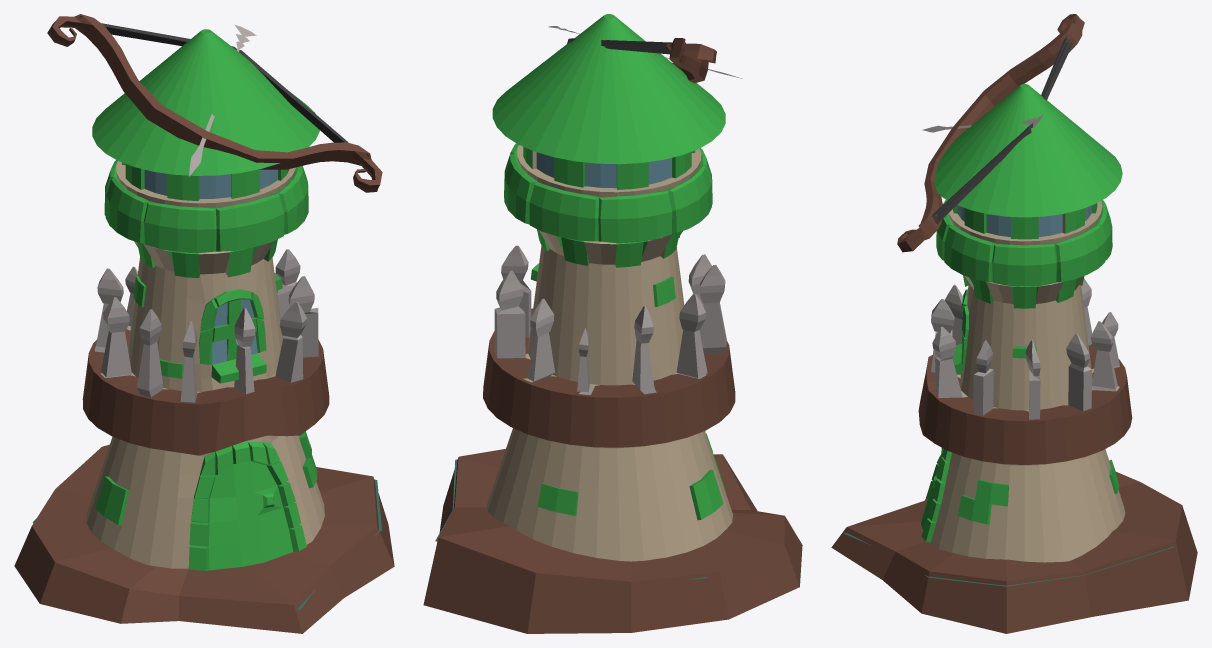
File: ok_kule_toprak.fbx
The picture shows the model from 3 angles, left to right: view 1: azimuth 30°, elevation 25°; view 2: azimuth 150°, elevation 25°; view 3: azimuth 270°, elevation 25°; orthographic projection. The views are drawn at different scales.
Parts seen in each view (by area): view 1: Cylinder.022, Circle.021, Plane.015, Plane.013; view 2: Cylinder.022, Circle.021, Plane.015; view 3: Cylinder.022, Circle.021, Plane.015.
Part boxes in pixels (bbox=[...]): Cylinder.022: bbox=[82, 29, 329, 570]; Circle.021: bbox=[14, 444, 394, 633]; Plane.015: bbox=[47, 14, 382, 192]; Plane.013: bbox=[189, 25, 256, 176]; Cylinder.022: bbox=[483, 14, 735, 561]; Circle.021: bbox=[423, 449, 802, 633]; Plane.015: bbox=[567, 38, 716, 83]; Cylinder.022: bbox=[918, 84, 1132, 562]; Circle.021: bbox=[831, 472, 1197, 633]; Plane.015: bbox=[897, 14, 1084, 252].
Size of the model in its own units: 488 by 740 by 496.
